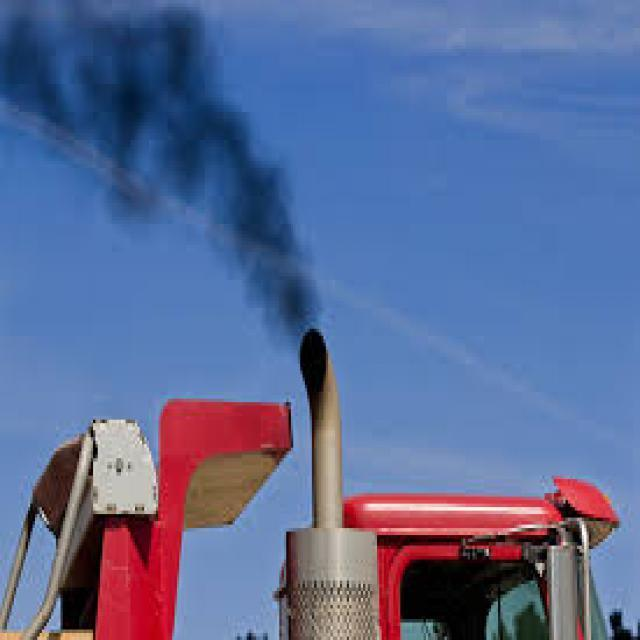Smoke: (10, 15, 327, 356)
